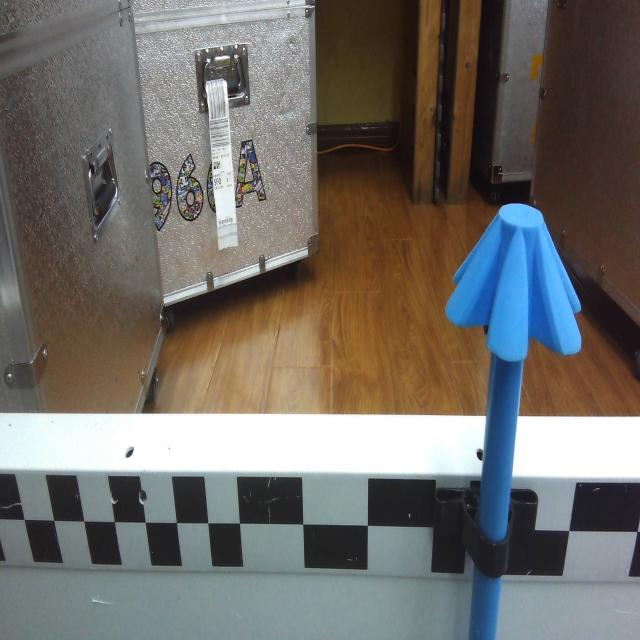zblue-Stake-Head: (445, 203, 581, 362)
